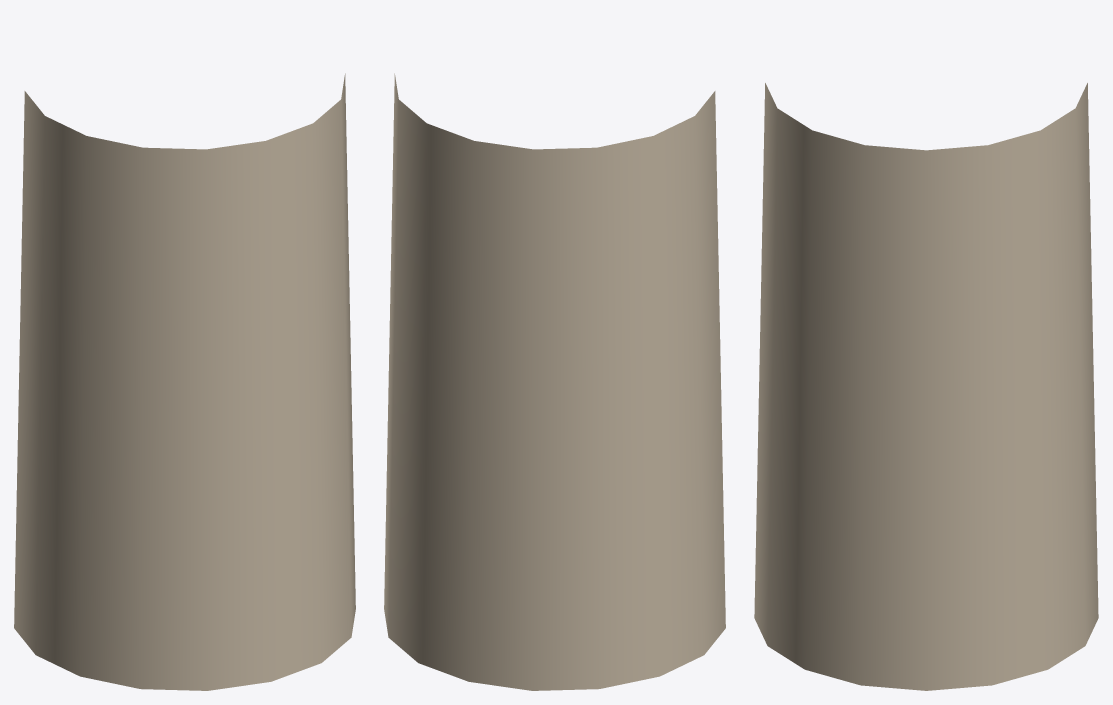
File: MUSINSA_OUTER_COAT_BEIGE_LOD0.glb
The picture shows the model from 3 angles, left to right: view 1: azimuth 30°, elevation 25°; view 2: azimuth 150°, elevation 25°; view 3: azimuth 270°, elevation 25°; orthographic projection.
Visible parts, largest first — view 1: coat-body; view 2: coat-body; view 3: coat-body.
Boxes of the visible parts, x1=… form: coat-body: x1=14, y1=73, x2=355, y2=690; coat-body: x1=384, y1=73, x2=725, y2=690; coat-body: x1=754, y1=83, x2=1098, y2=690.
Size of the model in its own units: 0.64 by 1.1 by 0.64.
